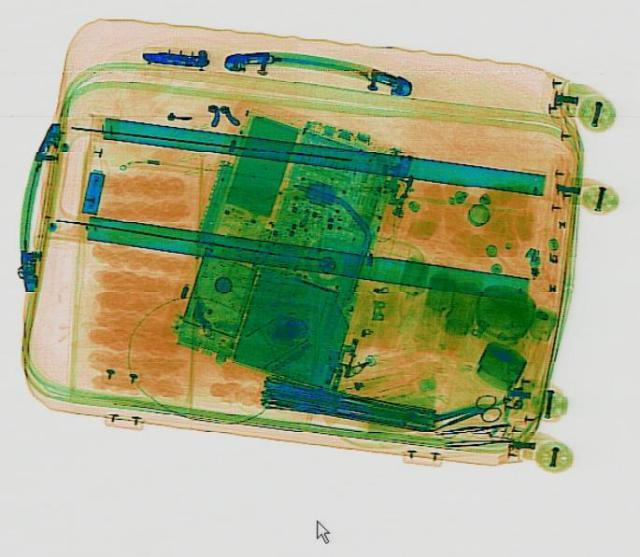Scissors: (421, 390, 505, 443)
